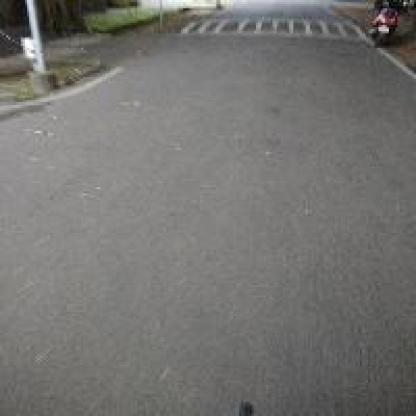Speed Bump: (179, 14, 360, 40)
